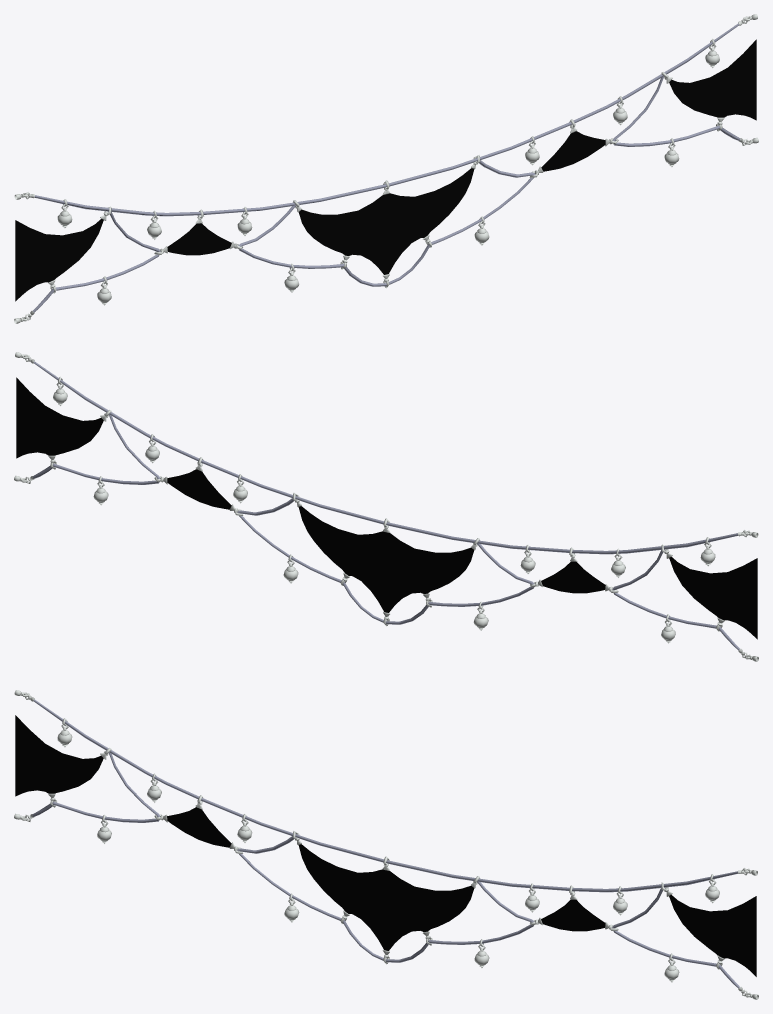
3 views of the same model, one above another, from view 1: azimuth 30°, elevation 25°; view 2: azimuth 150°, elevation 25°; view 3: azimuth 330°, elevation 25° (orthographic).
Visible parts, largest first — view 1: G:\FFXIV-MapTools\exports\m5f1\bg\ex4\02_mid_m5\fld\m5f1\bgp (×4); view 2: G:\FFXIV-MapTools\exports\m5f1\bg\ex4\02_mid_m5\fld\m5f1\bgp (×4); view 3: G:\FFXIV-MapTools\exports\m5f1\bg\ex4\02_mid_m5\fld\m5f1\bgp (×4).
Part boxes in pixels (x1,y1,x2,y2): G:\FFXIV-MapTools\exports\m5f1\bg\ex4\02_mid_m5\fld\m5f1\bgp (×4): [14, 14, 758, 323]; G:\FFXIV-MapTools\exports\m5f1\bg\ex4\02_mid_m5\fld\m5f1\bgp (×4): [14, 352, 758, 661]; G:\FFXIV-MapTools\exports\m5f1\bg\ex4\02_mid_m5\fld\m5f1\bgp (×4): [14, 690, 758, 999].
Size of the model in its own units: 40.26 by 9.55 by 0.7207.
